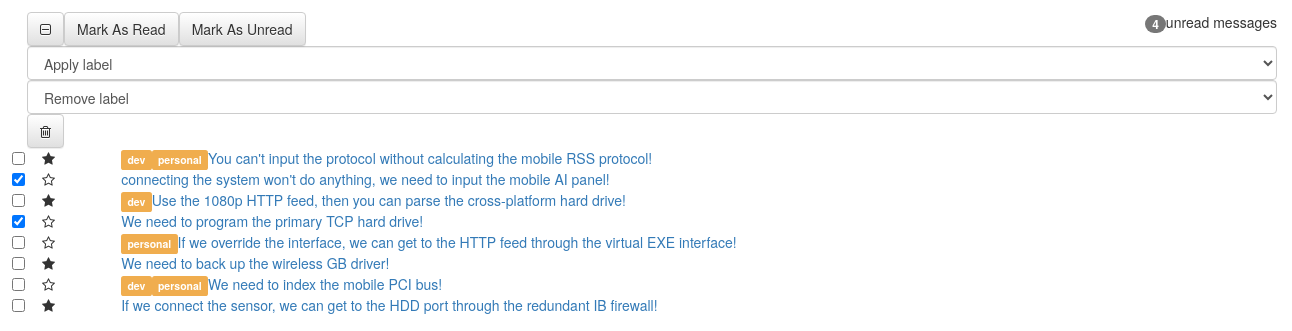
Test: landing page › appplying and unapplying labels › Apply Label button behavior › should apply a label, to an email, if its selected and the button is clicked, and it doesnt have that label
Click the button with id "selectAllButton" at (46, 29), box [27,12,64,46]
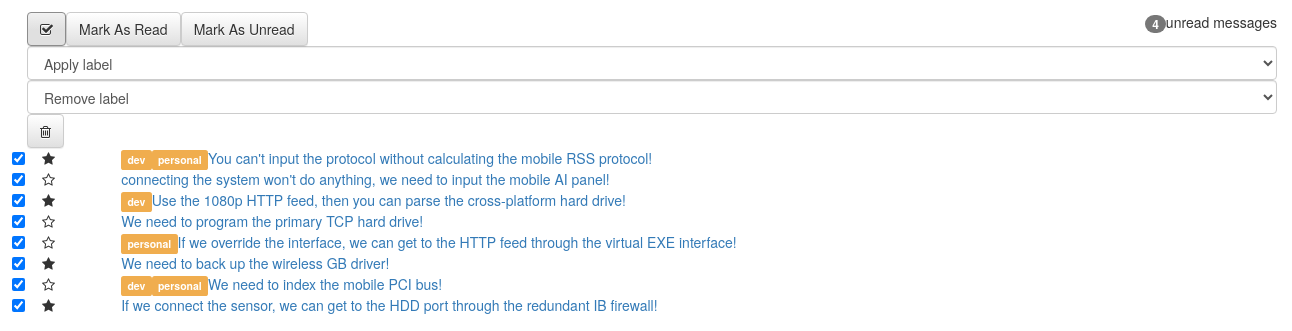
Click the button with id "selectAllButton" at (47, 29), box [27,12,66,46]
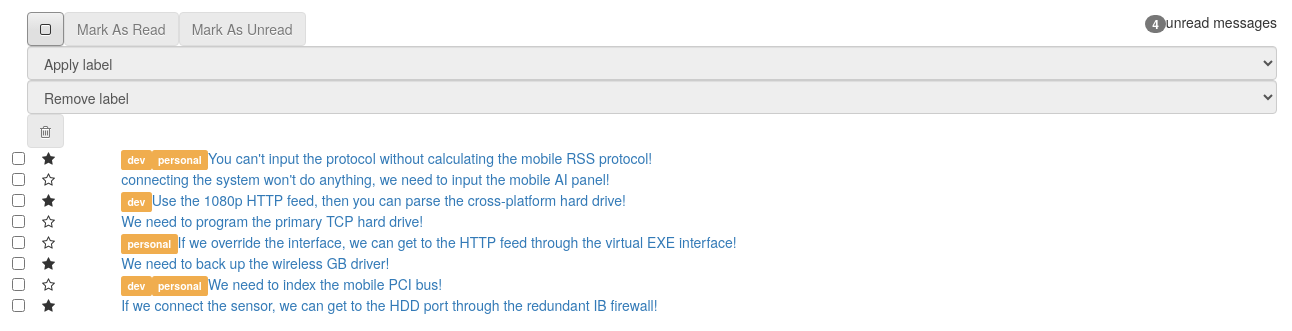
Click the 2nd checkbox at (19, 180), box [12,173,25,186]
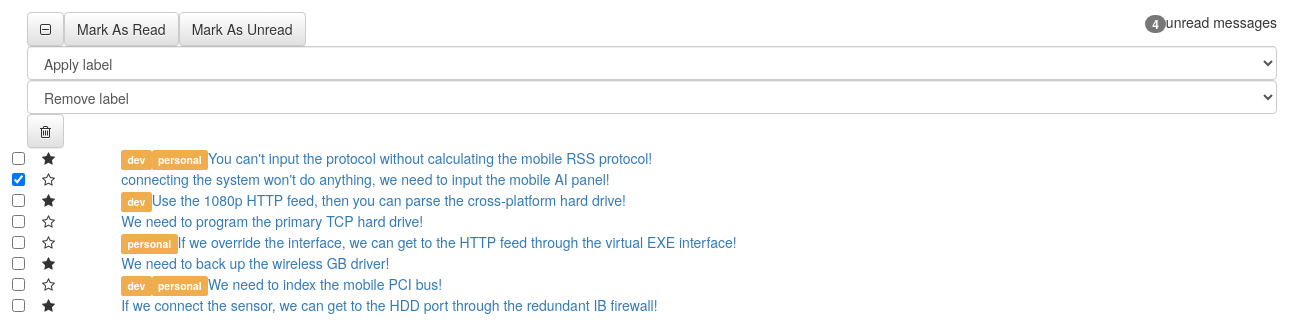
Select "dev" in the dropdown with id "applyLabelDropdown" at (652, 63), box [27,46,1277,80]
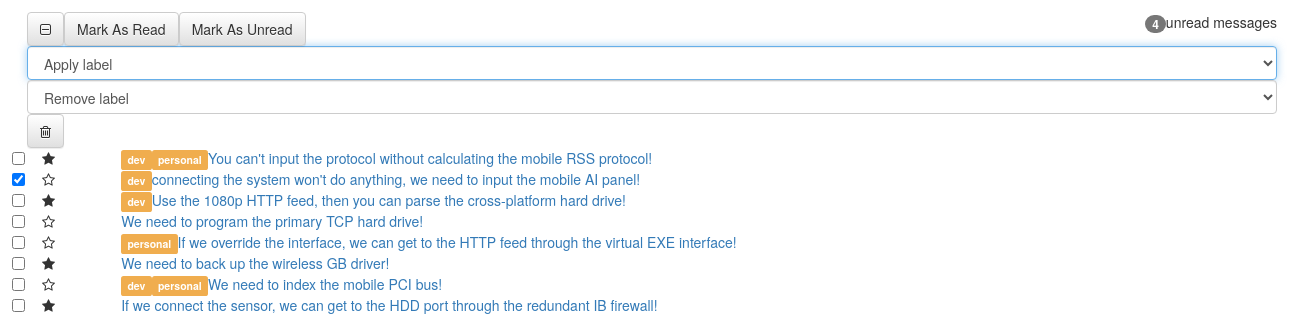
Check: the 2nd text "dev" is shown, box [121,171,152,191]
